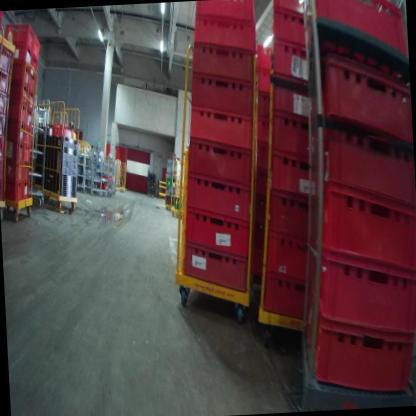small_load_carrier: (301, 234, 416, 346), (306, 41, 411, 161), (314, 177, 416, 289), (306, 300, 416, 403), (311, 123, 416, 228), (306, 0, 406, 59), (184, 164, 253, 235), (180, 200, 252, 266), (179, 234, 251, 300), (266, 147, 329, 213), (183, 130, 255, 187), (263, 188, 328, 251), (259, 229, 321, 295), (267, 105, 323, 178), (188, 97, 256, 156), (187, 62, 256, 120), (188, 6, 260, 60), (188, 39, 255, 90), (267, 72, 322, 132), (252, 0, 312, 53), (257, 268, 313, 324), (264, 32, 320, 87), (192, 0, 258, 31), (4, 23, 40, 60), (7, 51, 39, 91), (8, 38, 38, 74), (2, 157, 33, 189), (5, 95, 34, 128), (251, 35, 274, 72), (8, 77, 35, 108), (0, 117, 32, 142), (4, 138, 31, 166), (251, 60, 273, 94), (3, 176, 30, 203), (250, 184, 266, 228), (248, 227, 270, 259), (251, 130, 269, 167), (0, 36, 16, 74), (253, 89, 271, 122), (51, 119, 76, 140), (252, 167, 271, 192), (0, 63, 9, 102), (253, 116, 269, 137), (0, 84, 10, 117), (0, 152, 7, 180), (0, 133, 7, 161), (0, 111, 7, 136), (96, 181, 108, 191), (0, 177, 4, 202), (0, 11, 5, 22)
